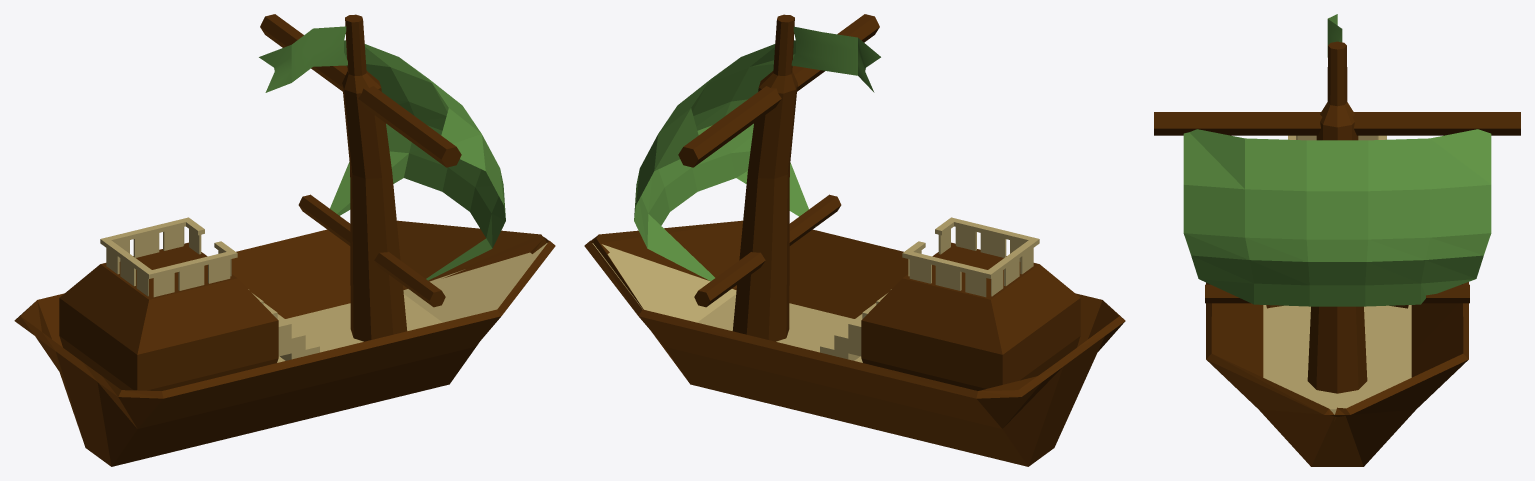
Rendered from Ship.fbx.
3 renders of one model, left to right at view 1: azimuth 30°, elevation 25°; view 2: azimuth 150°, elevation 25°; view 3: azimuth 270°, elevation 25°, orthographic.
Parts seen in each view (by area): view 1: Base, Ramp, Poles, Big_Flag, Fence, Little_Flag, Stairs; view 2: Base, Ramp, Poles, Big_Flag, Fence, Little_Flag, Stairs; view 3: Big_Flag, Base, Poles, Little_Flag.
Part boxes in pixels (x1,y1,x2,y2): Base: [14, 220, 555, 466]; Ramp: [59, 242, 278, 390]; Poles: [260, 14, 461, 341]; Big_Flag: [330, 40, 505, 280]; Fence: [100, 217, 237, 297]; Little_Flag: [259, 26, 347, 92]; Stairs: [248, 289, 319, 360]; Base: [584, 220, 1125, 466]; Ramp: [861, 242, 1080, 390]; Poles: [678, 14, 879, 341]; Big_Flag: [634, 40, 815, 281]; Fence: [902, 217, 1039, 297]; Little_Flag: [791, 26, 880, 92]; Stairs: [820, 289, 891, 360]; Big_Flag: [1183, 129, 1491, 306]; Base: [1206, 282, 1468, 466]; Poles: [1154, 41, 1520, 393]; Little_Flag: [1327, 14, 1342, 57].
Bounding box in the file's own units: 343 × 255 × 223.
